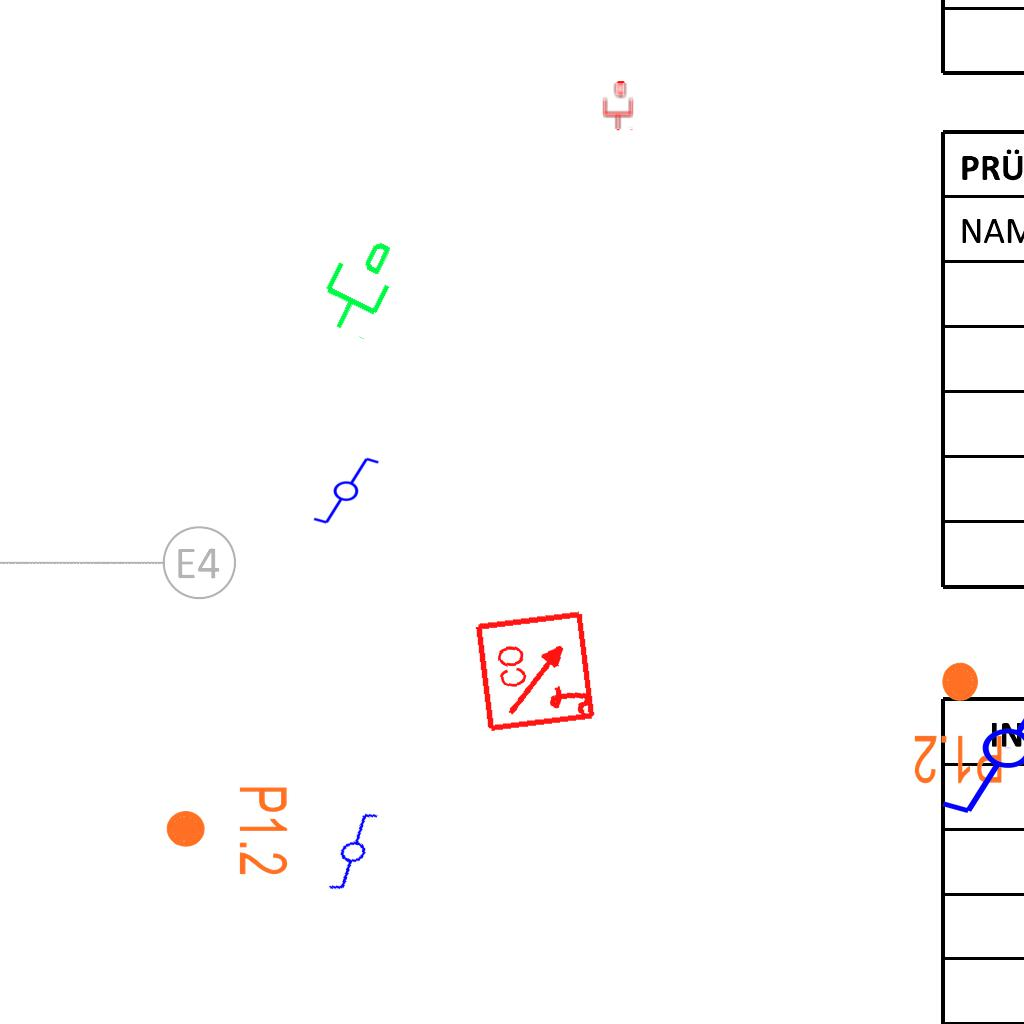Datenanschluss_einfach: (304, 223, 411, 345), (601, 81, 635, 131)
Downlight_LED_Einbauleuchten_Flur: (163, 784, 291, 877), (912, 659, 1005, 787)
ROA_Rauchmelder_optisch_mit_Signalgeber_(Sockelsirene): (473, 607, 600, 734)
Wechselschalter: (921, 674, 1024, 818), (302, 807, 396, 897), (303, 454, 381, 526)
